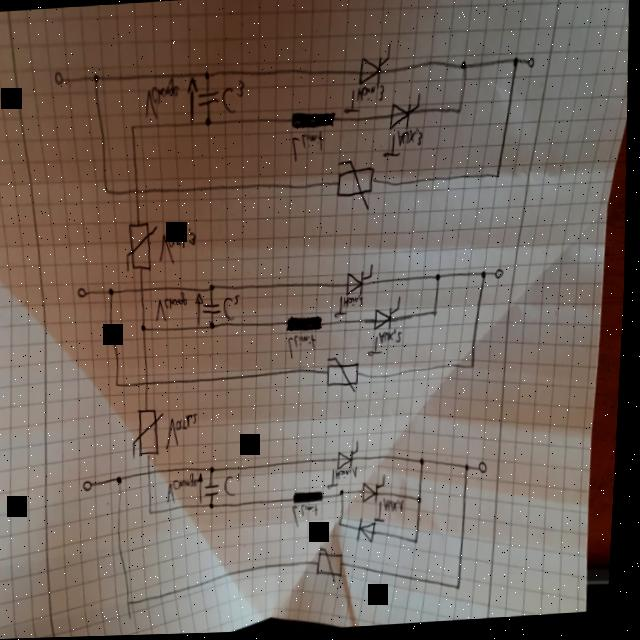capacitor: (197, 92, 221, 109), (208, 484, 225, 500), (205, 304, 223, 317)
crossover: (150, 470, 157, 479), (147, 381, 154, 389), (135, 189, 141, 198), (141, 287, 147, 295)
diode: (360, 519, 382, 547)
inductor: (290, 111, 338, 134), (288, 317, 327, 336), (298, 493, 328, 507)
junction: (459, 62, 468, 74), (512, 59, 519, 72), (205, 119, 213, 130), (109, 289, 118, 298), (92, 74, 100, 84), (120, 477, 128, 487), (212, 468, 221, 476), (203, 72, 210, 82), (211, 322, 218, 332), (131, 600, 139, 608), (213, 504, 220, 513), (423, 460, 430, 469), (437, 276, 444, 285), (343, 491, 350, 500), (143, 326, 150, 334), (105, 189, 112, 197), (457, 111, 464, 119), (495, 176, 502, 184), (468, 467, 475, 475), (418, 541, 425, 549), (460, 588, 468, 595), (473, 366, 480, 374), (483, 274, 489, 283), (435, 312, 441, 321), (211, 286, 217, 295), (130, 125, 136, 133), (421, 500, 427, 508), (342, 524, 348, 531), (118, 383, 124, 389), (153, 510, 158, 516)
terminal: (53, 71, 65, 87), (482, 464, 493, 478), (496, 271, 507, 284), (79, 288, 90, 300), (87, 481, 97, 494), (527, 60, 535, 73)
text: (143, 79, 181, 123), (159, 232, 200, 268), (167, 413, 203, 453), (341, 85, 386, 117), (383, 130, 427, 162), (290, 132, 327, 166), (368, 331, 407, 361), (169, 474, 203, 507), (156, 293, 191, 325), (220, 81, 246, 118), (289, 335, 321, 363), (330, 468, 364, 494), (378, 500, 410, 526), (336, 297, 368, 322), (295, 505, 325, 531), (225, 295, 245, 324), (226, 475, 245, 500)
thyristor: (358, 50, 392, 88), (389, 100, 423, 134), (347, 268, 378, 299), (375, 302, 405, 334), (365, 478, 392, 508), (340, 448, 364, 473)
